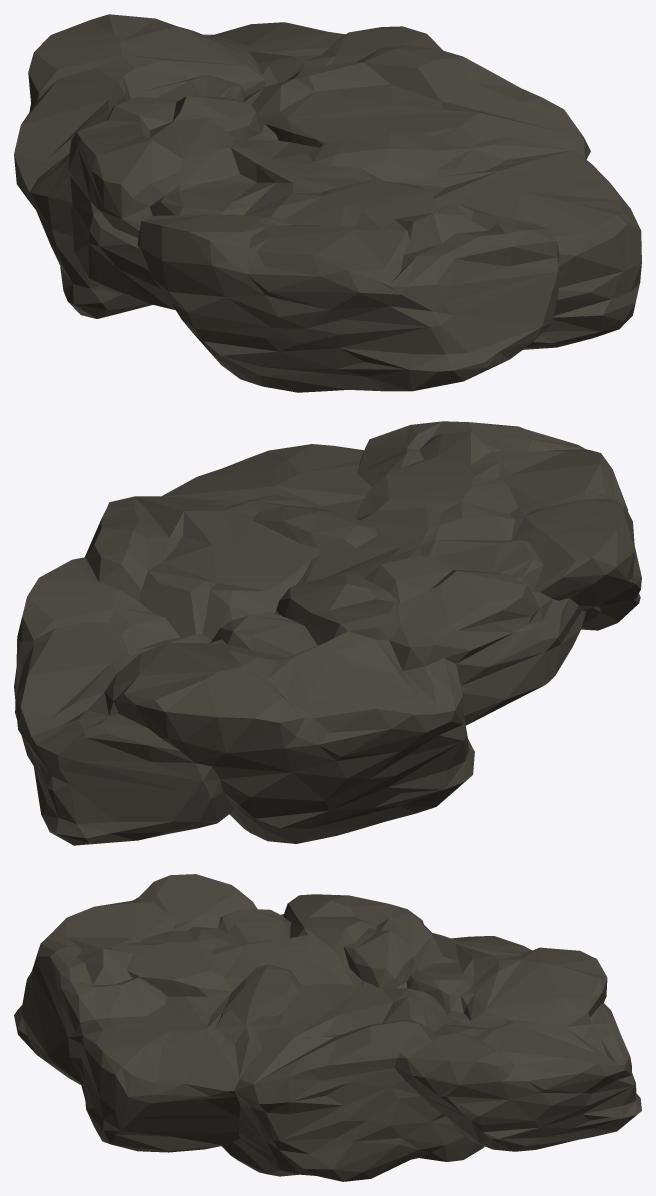
The model's file is synty-rock-cluster-large-02.gltf.
The picture shows the model from 3 angles, top to bottom: view 1: azimuth 30°, elevation 25°; view 2: azimuth 150°, elevation 25°; view 3: azimuth 270°, elevation 25°; orthographic projection. The views are drawn at different scales.
Visible parts, largest first — view 1: SM_Rock_Cluster_Large_02; view 2: SM_Rock_Cluster_Large_02; view 3: SM_Rock_Cluster_Large_02.
Part boxes in pixels (left/top/right/bottom): SM_Rock_Cluster_Large_02: left=14, top=14, right=641, bottom=392; SM_Rock_Cluster_Large_02: left=14, top=421, right=641, bottom=845; SM_Rock_Cluster_Large_02: left=14, top=874, right=641, bottom=1181.
Bounding box in the file's own units: 19.47 × 8.37 × 28.64.
Materials: 1 (1 with a texture image).
